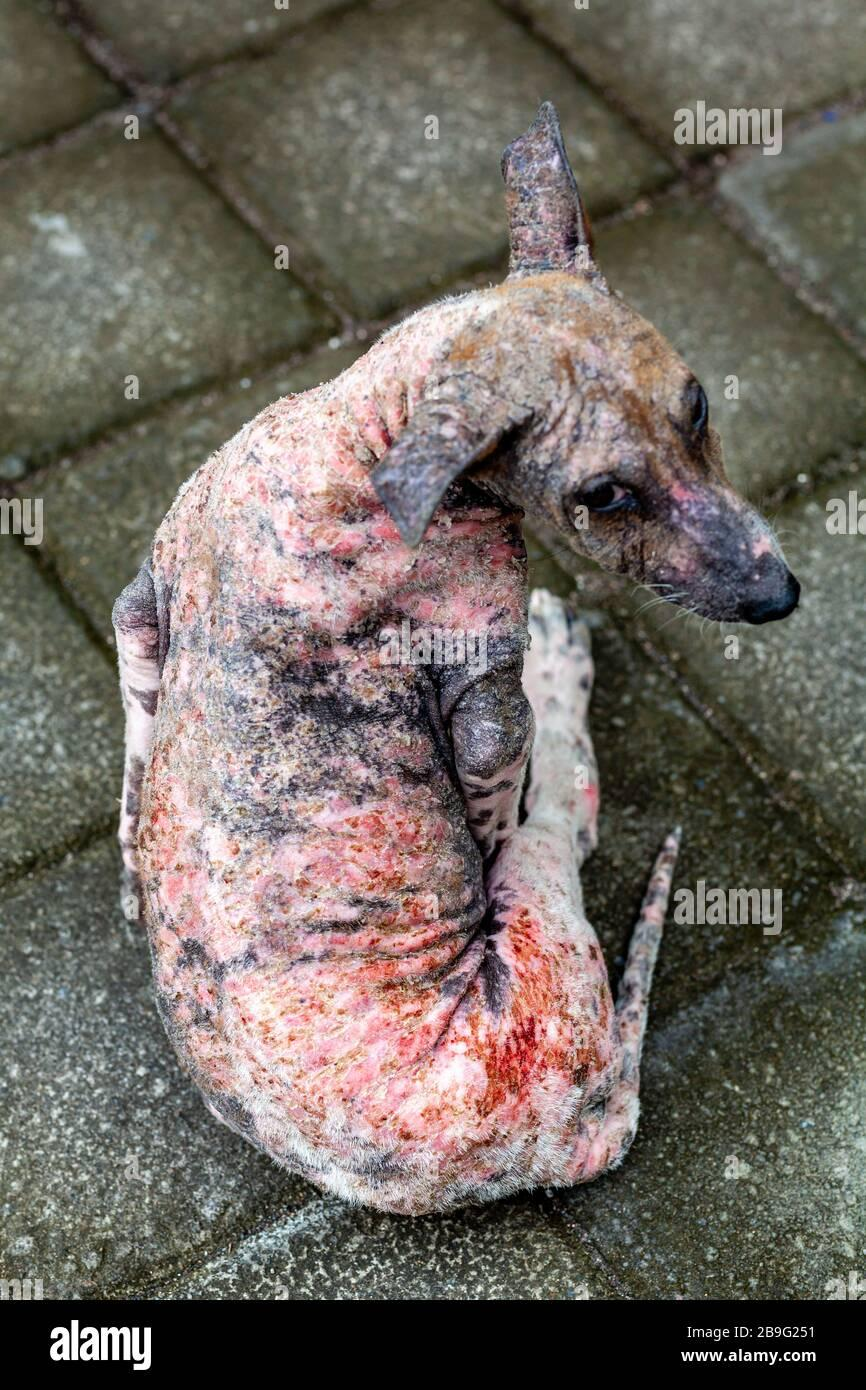infection: (210, 488, 502, 1131)
